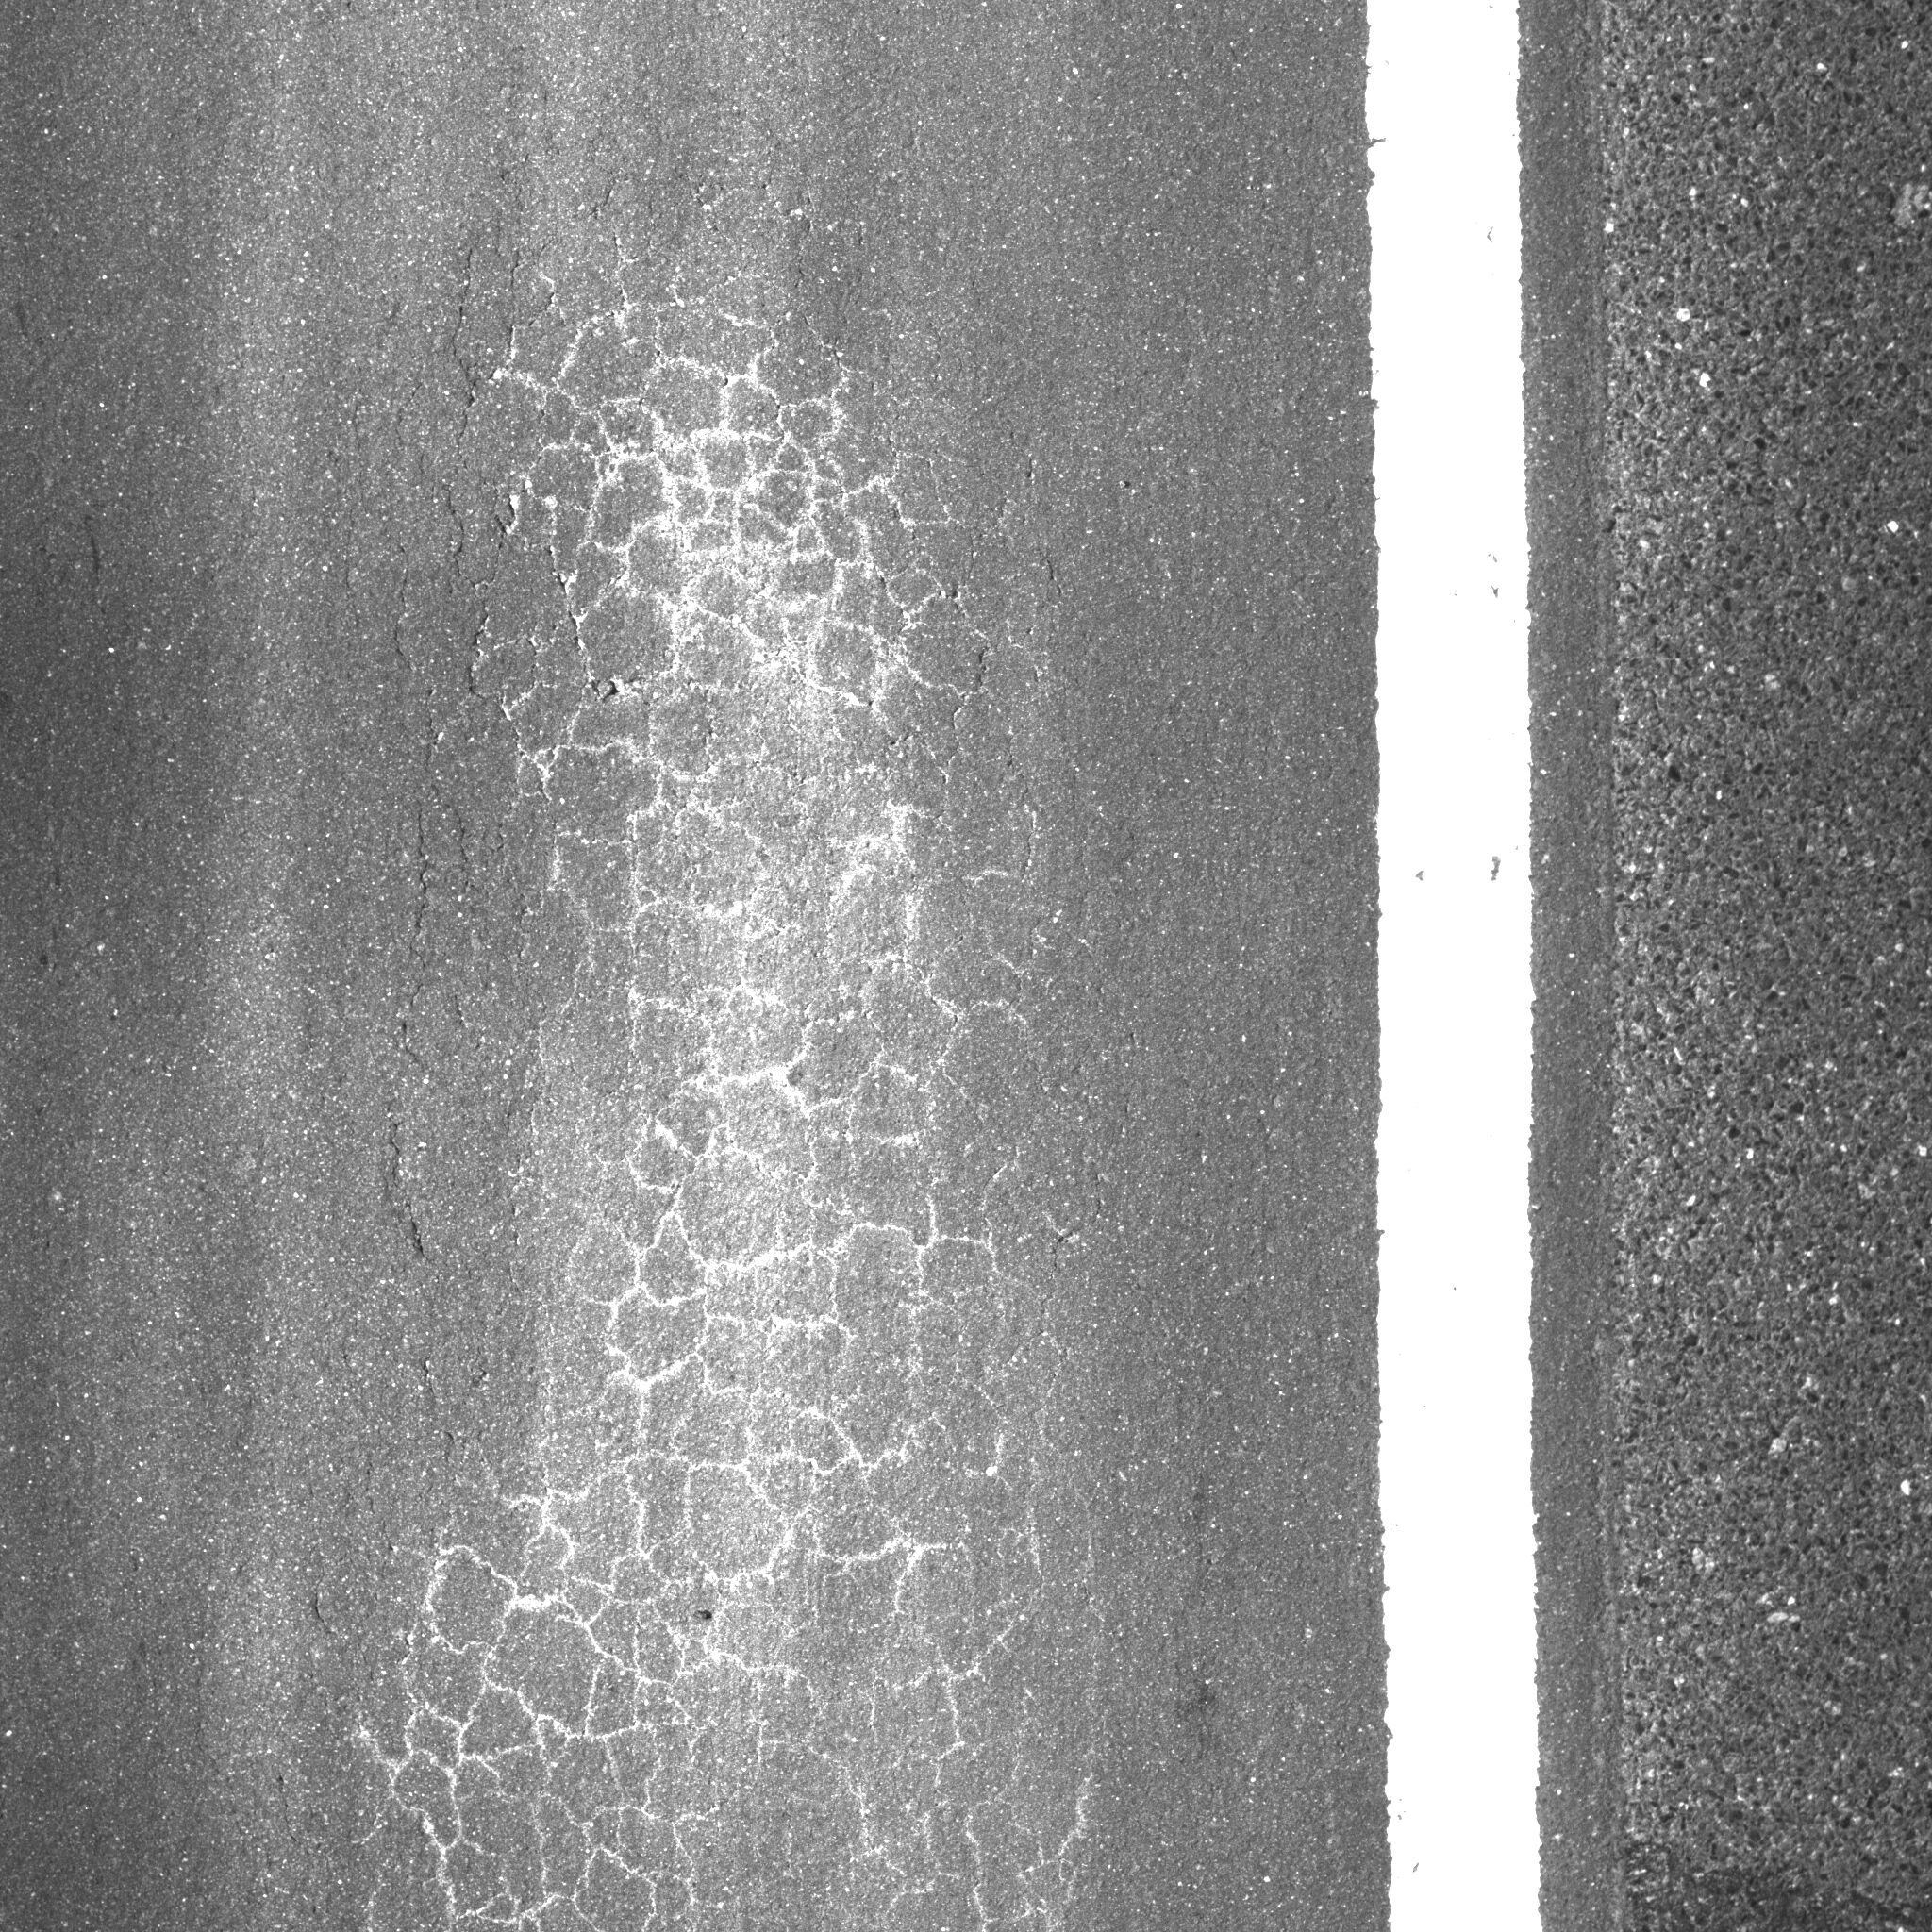alligator: (340, 207, 1166, 1932)
